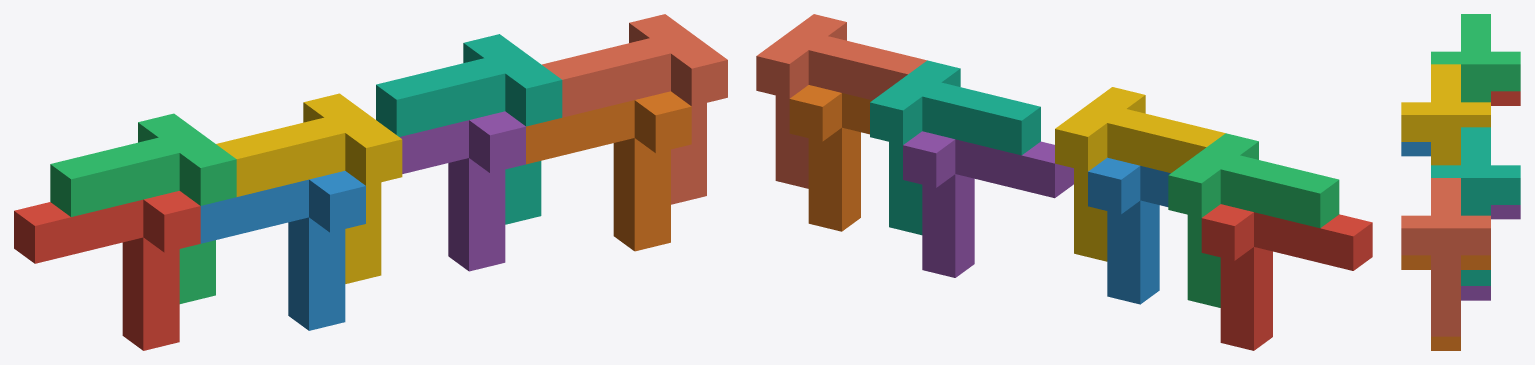
File: tiling.obj
3 renders of one model, left to right at view 1: azimuth 30°, elevation 25°; view 2: azimuth 150°, elevation 25°; view 3: azimuth 270°, elevation 25°, orthographic. The views are drawn at different scales.
Parts seen in each view (by area): view 1: copy_1_domain_1, copy_1_domain_3, copy_1_domain_7, copy_1_domain_4, copy_1_domain_8, copy_1_domain_6, copy_1_domain_2, copy_1_domain_5; view 2: copy_1_domain_3, copy_1_domain_1, copy_1_domain_7, copy_1_domain_5, copy_1_domain_8, copy_1_domain_4, copy_1_domain_6, copy_1_domain_2; view 3: copy_1_domain_8, copy_1_domain_4, copy_1_domain_7, copy_1_domain_3, copy_1_domain_6, copy_1_domain_5, copy_1_domain_1, copy_1_domain_2.
Boxes of the visible parts, x1=… form: copy_1_domain_1: x1=14, y1=191, x2=200, y2=350; copy_1_domain_3: x1=50, y1=113, x2=236, y2=303; copy_1_domain_7: x1=376, y1=34, x2=562, y2=224; copy_1_domain_4: x1=216, y1=93, x2=402, y2=283; copy_1_domain_8: x1=542, y1=14, x2=727, y2=204; copy_1_domain_6: x1=526, y1=91, x2=691, y2=251; copy_1_domain_2: x1=200, y1=171, x2=365, y2=330; copy_1_domain_5: x1=399, y1=111, x2=525, y2=271; copy_1_domain_3: x1=1168, y1=133, x2=1339, y2=307; copy_1_domain_1: x1=1201, y1=204, x2=1372, y2=350; copy_1_domain_7: x1=870, y1=60, x2=1040, y2=235; copy_1_domain_5: x1=903, y1=131, x2=1073, y2=277; copy_1_domain_8: x1=756, y1=14, x2=926, y2=188; copy_1_domain_4: x1=1055, y1=87, x2=1225, y2=261; copy_1_domain_6: x1=789, y1=85, x2=872, y2=231; copy_1_domain_2: x1=1088, y1=157, x2=1170, y2=304; copy_1_domain_8: x1=1401, y1=178, x2=1490, y2=336; copy_1_domain_4: x1=1401, y1=64, x2=1490, y2=165; copy_1_domain_7: x1=1431, y1=127, x2=1520, y2=285; copy_1_domain_3: x1=1431, y1=14, x2=1520, y2=102; copy_1_domain_6: x1=1401, y1=255, x2=1490, y2=350; copy_1_domain_5: x1=1461, y1=205, x2=1520, y2=300; copy_1_domain_1: x1=1491, y1=91, x2=1520, y2=105; copy_1_domain_2: x1=1401, y1=142, x2=1430, y2=156.
Bounding box in the file's own units: 18 × 5 × 4.
